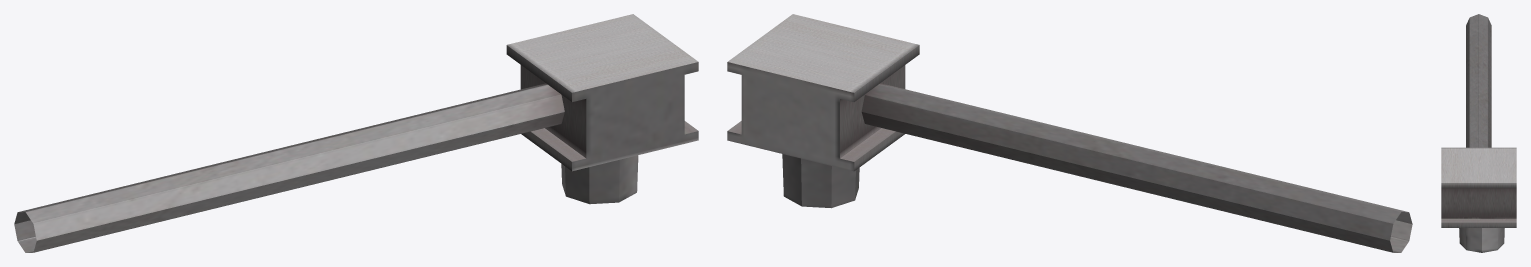
File: substation_ht_1005_05-.obj
3 renders of one model, left to right at view 1: azimuth 30°, elevation 25°; view 2: azimuth 150°, elevation 25°; view 3: azimuth 270°, elevation 25°, orthographic. The views are drawn at different scales.
Parts seen in each view (by area): view 1: _045; view 2: _045; view 3: _045.
Part boxes in pixels (x1,y1,x2,y2): _045: (14,14,698,252); _045: (727,14,1412,252); _045: (1441,14,1516,252).
Size of the model in its own units: 6.29 by 1.28 by 1.11.
1 material, 1 textured.
